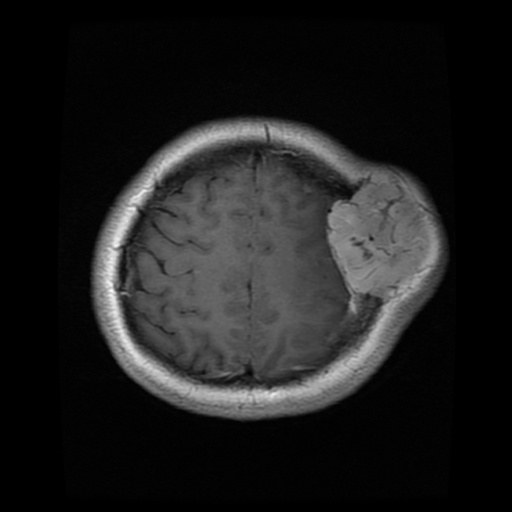meningioma: (329, 179, 427, 297)
